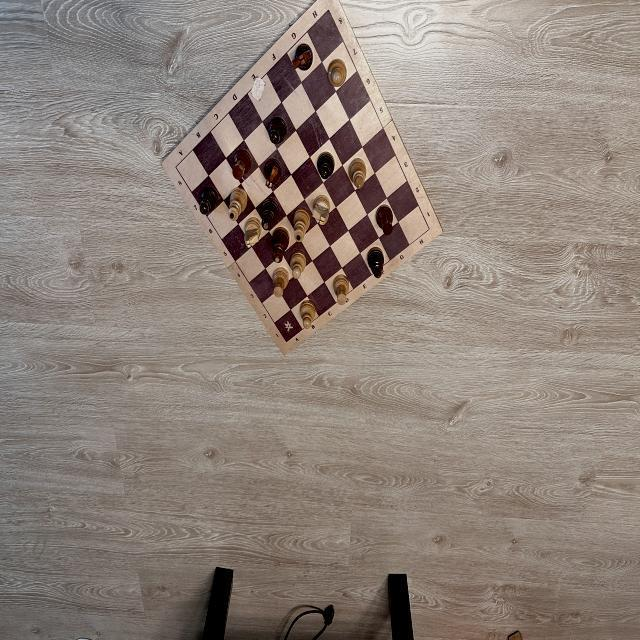chess-table-corners: (326, 6, 331, 14), (174, 164, 178, 170), (285, 340, 288, 345), (428, 226, 430, 232)
